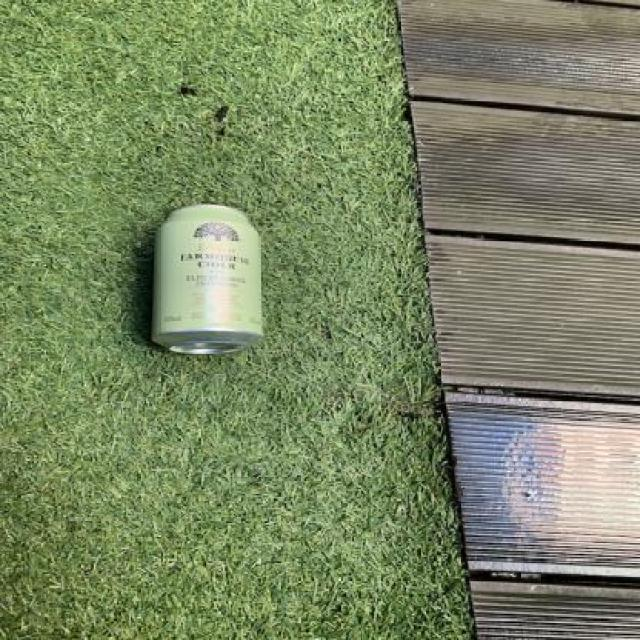trash: (148, 202, 272, 356)
